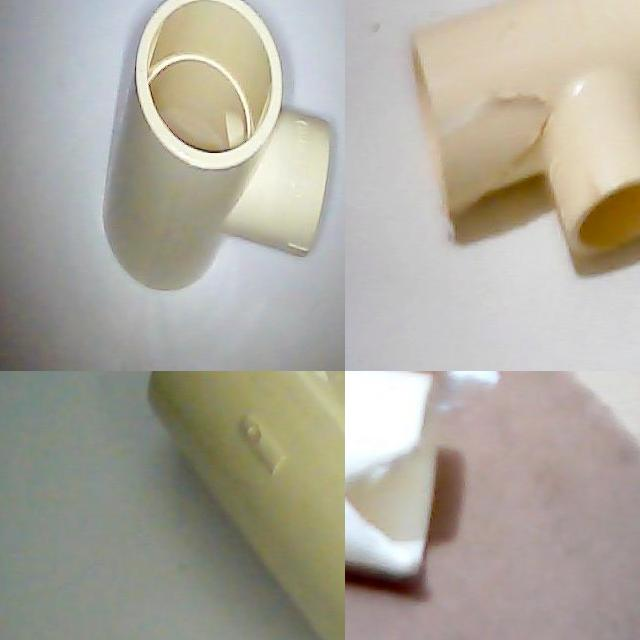Defective: (345, 446, 438, 586), (446, 82, 564, 186)
T Joint: (102, 0, 335, 296), (146, 371, 345, 640), (345, 371, 439, 597)
